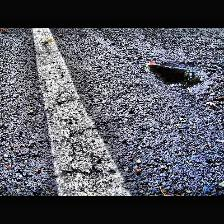pothole: (144, 58, 210, 98)
